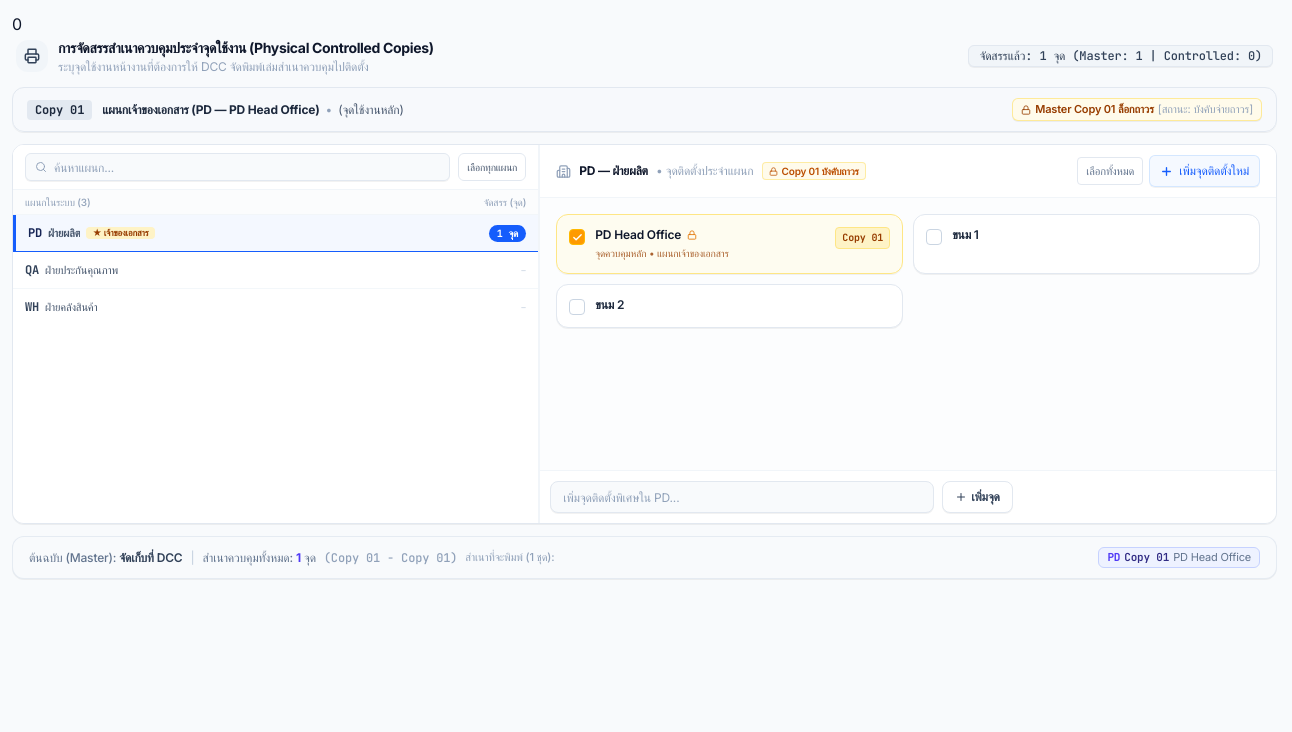
Test case: Distribution Station Checkbox Click, ID Normalization & Real-time Allocation Sync Tests › Test Case 2: Clicking station "ขนม 1" selects it in single click, assigns Copy 02 and updates department counter
This screenshot has width=1292, height=732.
Expected: the button "PD ฝ่ายผลิต ★ เจ้าของเอกสาร 1 จุด" is shown, [13,215,538,252]
Click the button "ขนม 1" at (934, 237), box [913,214,1260,274]
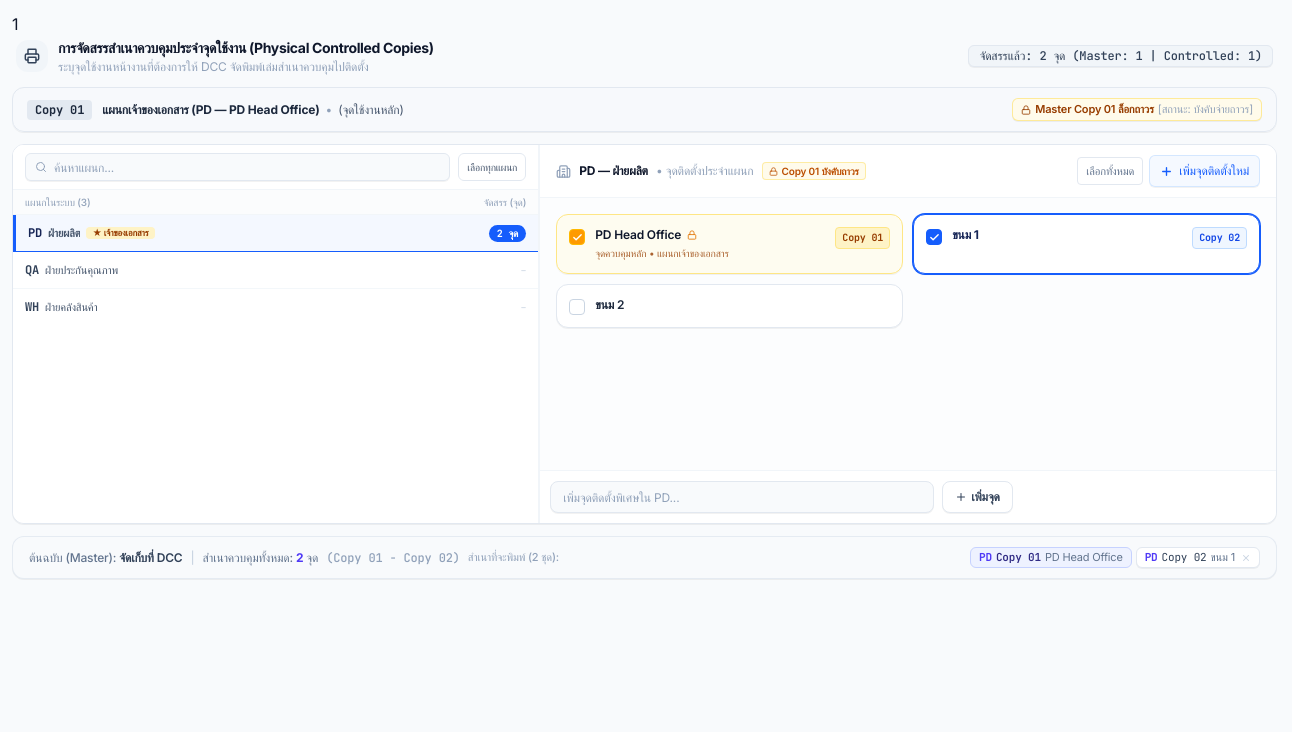
Expected: the button "PD ฝ่ายผลิต ★ เจ้าของเอกสาร 2 จุด" is shown, [13,215,538,252]
Expected: the text "สำเนาที่จะพิมพ์ (2 ชุด):" is shown, [468,550,559,565]
Expected: the text with test id "distributions-count" reads "1", [12,14,18,34]
